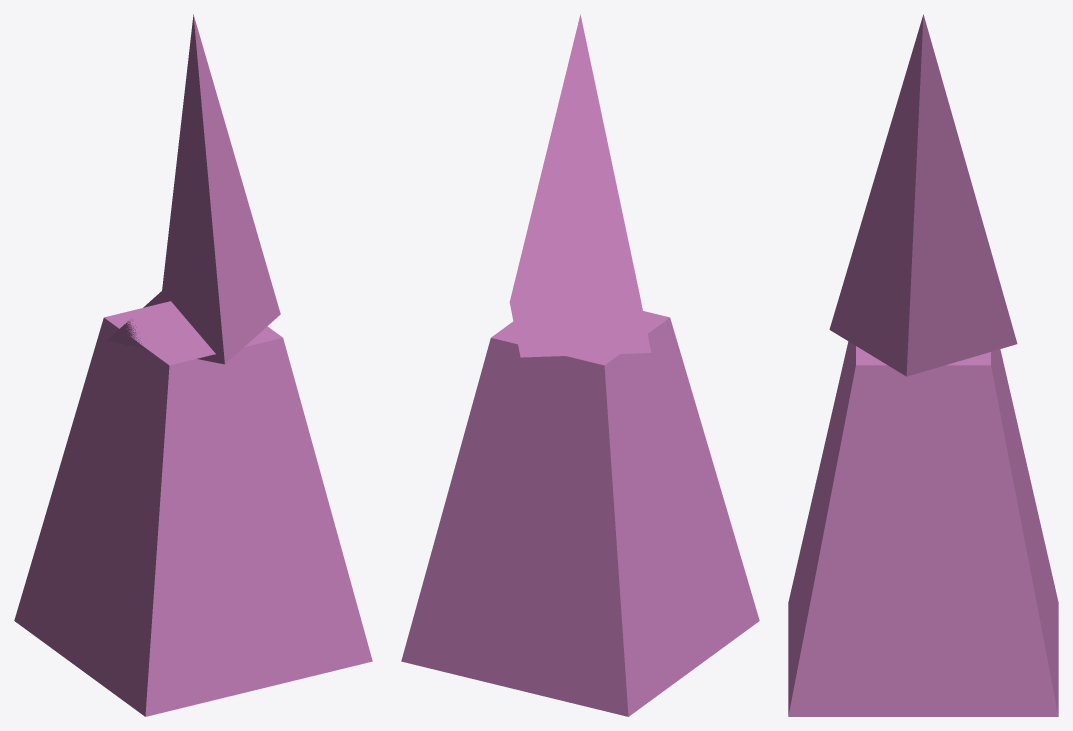
Rendered from pyramid_rotated.fbx.
The picture shows the model from 3 angles, left to right: view 1: azimuth 30°, elevation 25°; view 2: azimuth 150°, elevation 25°; view 3: azimuth 270°, elevation 25°; orthographic projection. The views are drawn at different scales.
Parts seen in each view (by area): view 1: Cube; view 2: Cube; view 3: Cube.
Part boxes in pixels (<box>): Cube: <box>14,14,372,716</box>; Cube: <box>401,14,759,716</box>; Cube: <box>788,14,1058,716</box>.
Bounding box in the file's own units: 200 × 200 × 527.
